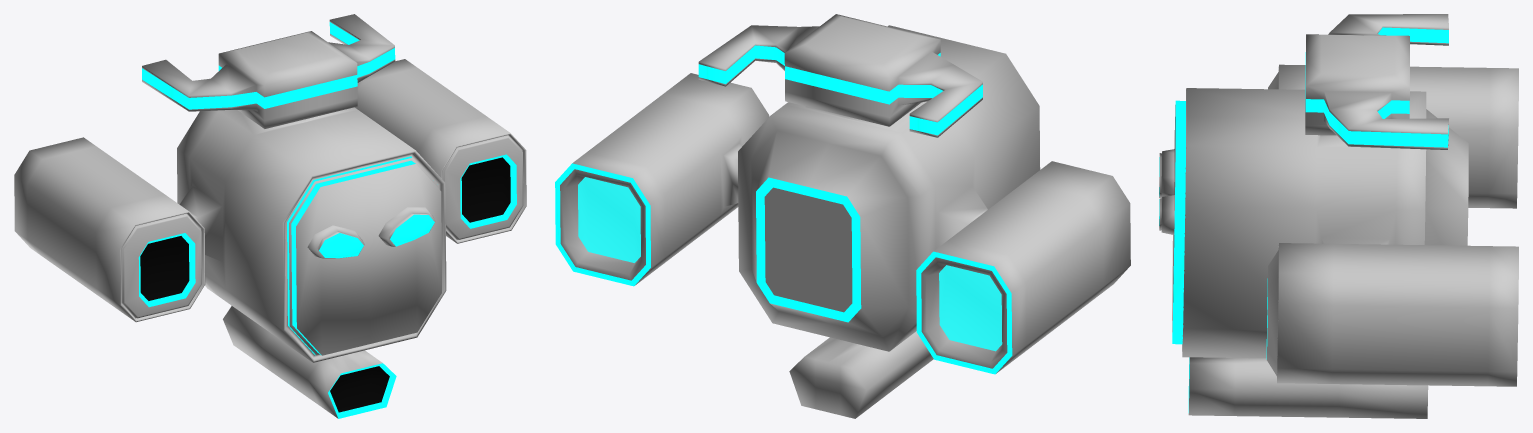
The model's file is enemy.gltf.
3 views of the same model, side by side, from view 1: azimuth 30°, elevation 25°; view 2: azimuth 150°, elevation 25°; view 3: azimuth 270°, elevation 25° (orthographic). The views are drawn at different scales.
Parts seen in each view (by area): view 1: Box011; view 2: Box011; view 3: Box011.
Boxes of the visible parts, x1,y1,x2,y2 form: Box011: (14,14,526,418); Box011: (555,14,1130,418); Box011: (1159,14,1518,418).
Size of the model in its own units: 28.78 by 20.94 by 19.42.
